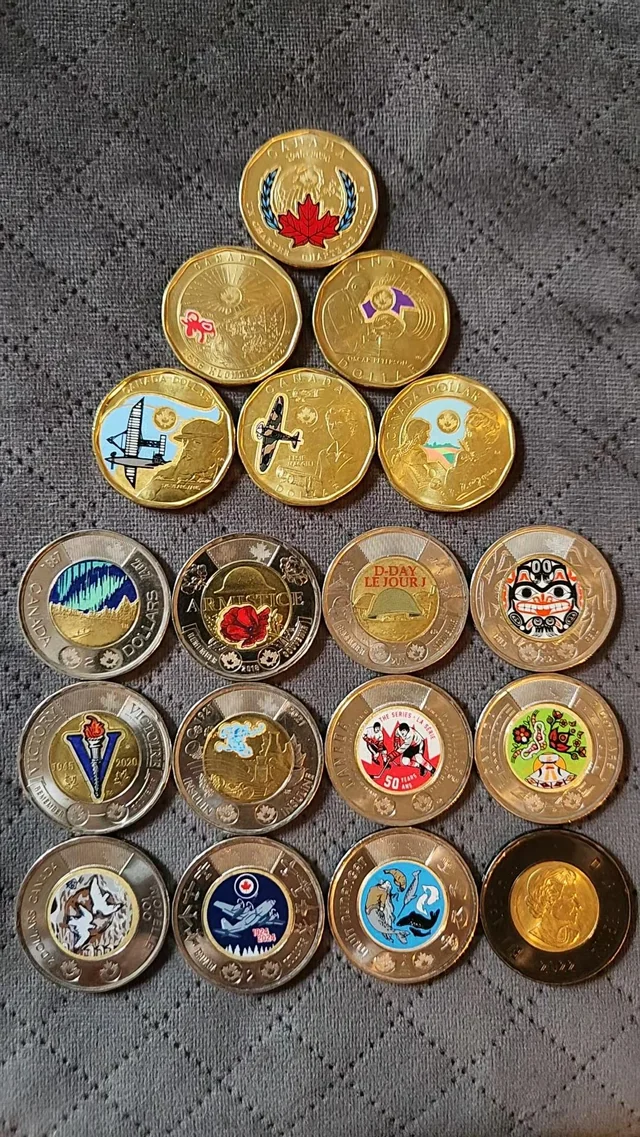coin: (172, 837, 323, 992), (17, 836, 168, 990), (327, 828, 477, 983), (480, 829, 630, 984), (20, 681, 170, 833), (18, 530, 169, 678), (173, 684, 322, 833), (475, 674, 622, 823), (326, 676, 471, 825), (173, 534, 320, 679), (323, 527, 467, 674), (471, 526, 615, 670), (93, 369, 234, 508), (239, 129, 377, 267), (162, 247, 301, 384), (378, 374, 514, 511), (313, 250, 449, 387), (237, 370, 375, 505)
